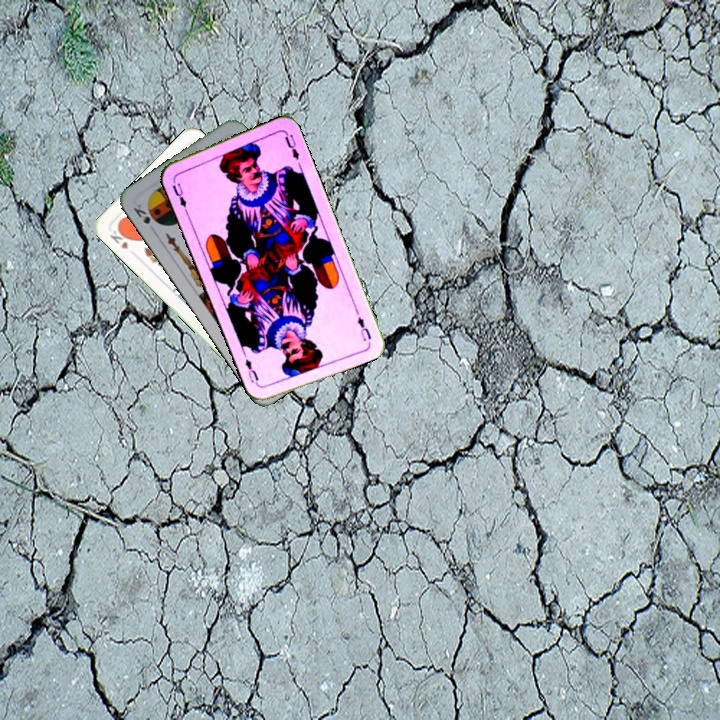EU: (351, 305, 374, 343), (168, 179, 189, 210)
HK: (106, 224, 134, 252)
SK: (129, 200, 153, 227)
